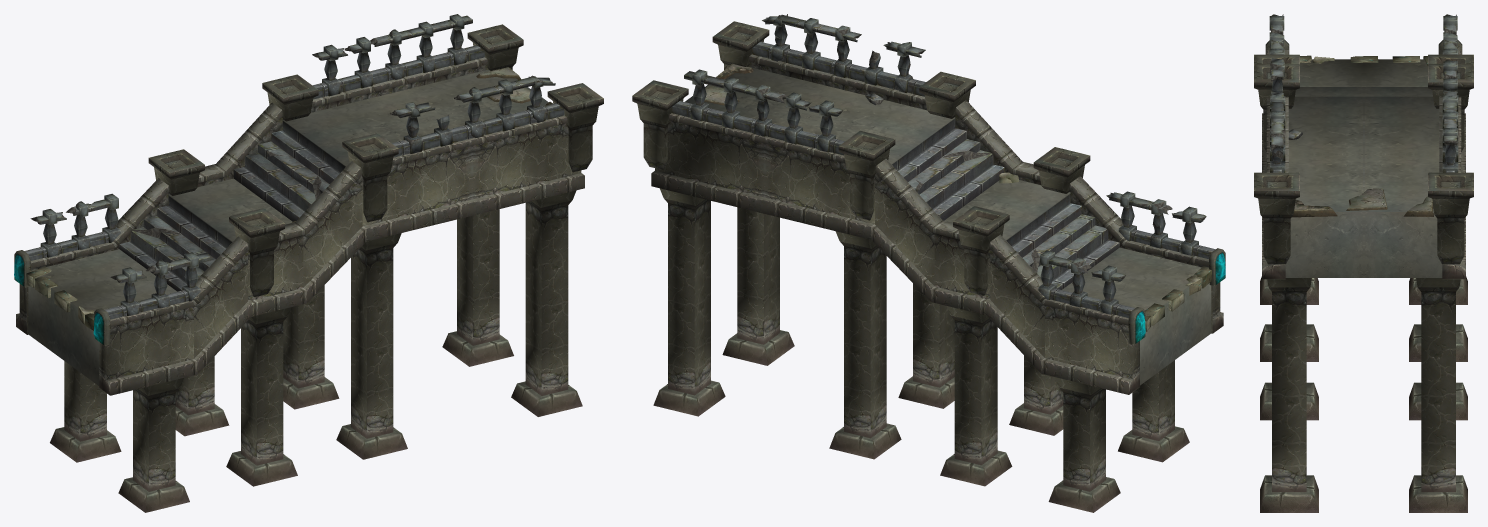
The model's file is Bridge2.fbx.
The picture shows the model from 3 angles, left to right: view 1: azimuth 30°, elevation 25°; view 2: azimuth 150°, elevation 25°; view 3: azimuth 270°, elevation 25°; orthographic projection. The views are drawn at different scales.
Visible parts, largest first — view 1: Bridge2; view 2: Bridge2; view 3: Bridge2.
Part boxes in pixels (x1,y1,x2,y2): Bridge2: [14, 14, 603, 512]; Bridge2: [632, 14, 1225, 512]; Bridge2: [1254, 14, 1473, 512].
Size of the model in its own units: 15.89 by 10.21 by 5.6.
